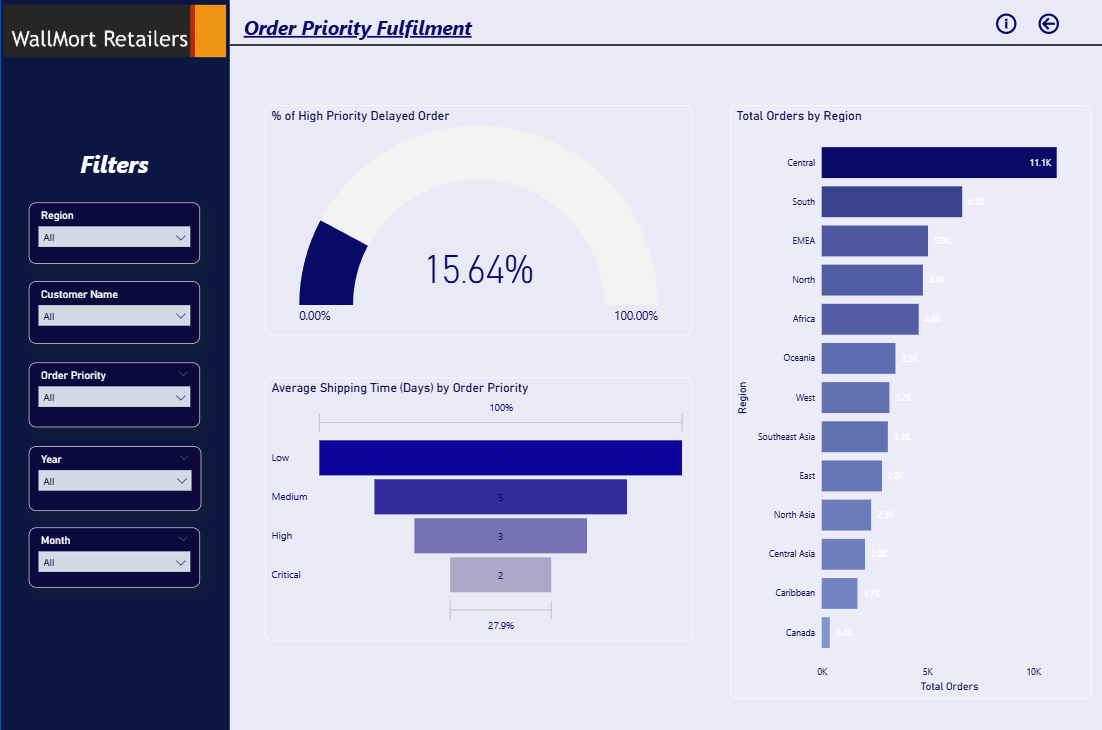

The page's visual inventory and layout, read from the dashboard file:
{"tool":"powerbi","page":{"name":"Order Priority Fulfilment","canvas":[1500,1000],"ordinal":3},"visuals":[{"type":"funnel","fields":{"Category":["Orders.Order Priority"],"Y":["Orders.Average Shipping Time (Days)"]},"box":[360.1,519.7,580.8,358.4],"z":0},{"type":"barChart","fields":{"Category":["Orders.Order Priority","Orders.Region","Orders.Customer Name"],"Y":["Orders.Total Orders"]},"box":[991.9,149.5,490.8,806.7],"z":1000},{"type":"gauge","fields":{"Y":["Orders.% of High Priority Delayed Order"]},"box":[360.1,149.5,580.8,312.5],"z":2000},{"type":"textbox","box":[326.1,20.4,353.3,47.6],"z":3000},{"type":"shape","box":[312.5,57.7,1187.2,20.4],"z":4000},{"type":"actionButton","box":[1348.5,20.4,40.8,37.4],"z":5000},{"type":"shape","box":[0,0,312.5,1000.3],"z":6000},{"type":"slicer","fields":{"Values":["Orders.Region"]},"box":[39.1,281.9,232.7,83.2],"z":7000},{"type":"slicer","fields":{"Values":["Orders.Customer Name"]},"box":[39.1,388.9,232.7,84.9],"z":8000},{"type":"slicer","fields":{"Values":["Orders.Order Priority"]},"box":[39.1,499.3,232.7,88.3],"z":9000},{"type":"slicer","fields":{"Values":["Orders.Order Date.Variation.Date Hierarchy.Year"]},"box":[39.1,613.1,234.4,88.3],"z":10000},{"type":"slicer","fields":{"Values":["Orders.Order Date.Variation.Date Hierarchy.Month"]},"box":[39.1,723.5,232.7,81.5],"z":11000},{"type":"textbox","box":[39.1,202.1,232.7,57.7],"z":12000},{"type":"image","box":[0,8.5,312.5,81.5],"z":13000},{"type":"actionButton","box":[1406.3,20.4,45.9,37.4],"z":14000}]}

Visuals, with their boxes in screenshot pixels (x1, y1, x2, y2), scaled from the page's 1500x1000 canvas onto the 1102x730 screenshot:
funnel - Orders.Order Priority x Orders.Average Shipping Time (Days): l=265, t=379, r=691, b=641
barChart - Orders.Order Priority x Orders.Region: l=729, t=109, r=1089, b=698
gauge - Orders.% of High Priority Delayed Order: l=265, t=109, r=691, b=337
textbox: l=240, t=15, r=499, b=50
shape: l=230, t=42, r=1101, b=57
actionButton: l=991, t=15, r=1021, b=42
shape: l=0, t=0, r=230, b=729
slicer - Orders.Region: l=29, t=206, r=200, b=267
slicer - Orders.Customer Name: l=29, t=284, r=200, b=346
slicer - Orders.Order Priority: l=29, t=364, r=200, b=429
slicer - Orders.Order Date.Variation.Date Hierarchy.Year: l=29, t=448, r=201, b=512
slicer - Orders.Order Date.Variation.Date Hierarchy.Month: l=29, t=528, r=200, b=588
textbox: l=29, t=148, r=200, b=190
image: l=0, t=6, r=230, b=66
actionButton: l=1033, t=15, r=1067, b=42
